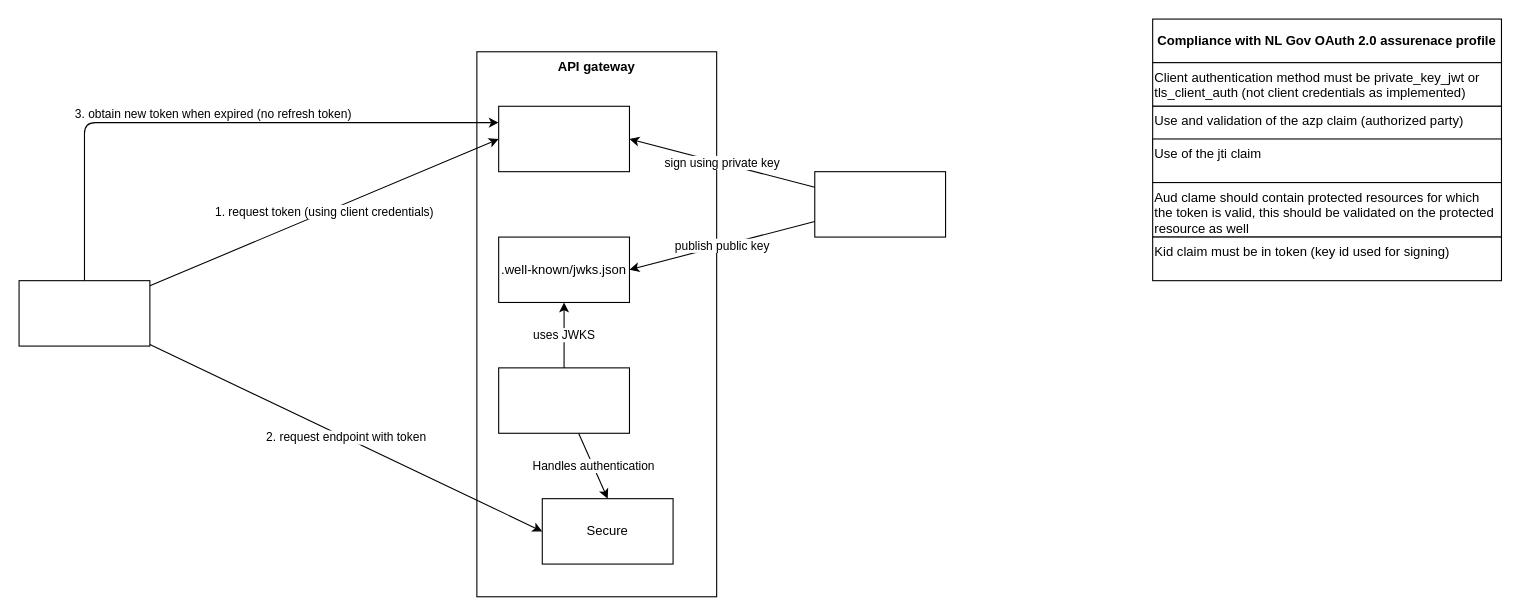
This 1521x616 diagram has some shape labels left out. Here are the shapes that lost their labels. From the top down, the centre of each, then its label:
At (x=563, y=138): "Token endpoint".
At (x=880, y=204): "Cert & private key".
At (x=84, y=313): "Client".
At (x=563, y=400): "TokenAuthorizer".
